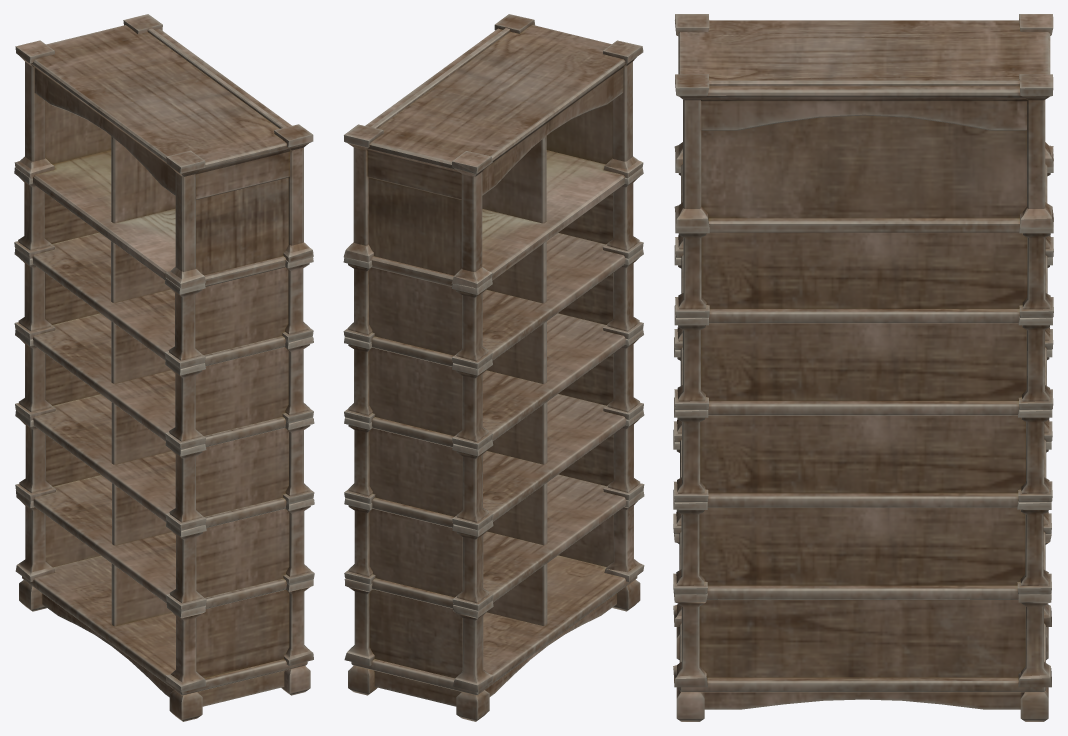
Rendered from SM_cabinet_02.fbx.
3 views of the same model, side by side, from view 1: azimuth 30°, elevation 25°; view 2: azimuth 150°, elevation 25°; view 3: azimuth 270°, elevation 25° (orthographic). The views are drawn at different scales.
Visible parts, largest first — view 1: SM_cabinet_02_LOD0; view 2: SM_cabinet_02_LOD0; view 3: SM_cabinet_02_LOD0.
Boxes of the visible parts, bbox=[...] form: SM_cabinet_02_LOD0: bbox=[14, 14, 314, 721]; SM_cabinet_02_LOD0: bbox=[343, 14, 644, 721]; SM_cabinet_02_LOD0: bbox=[673, 14, 1053, 721].
Bounding box in the file's own units: 69.74 × 150 × 276.
1 material, 1 textured.
